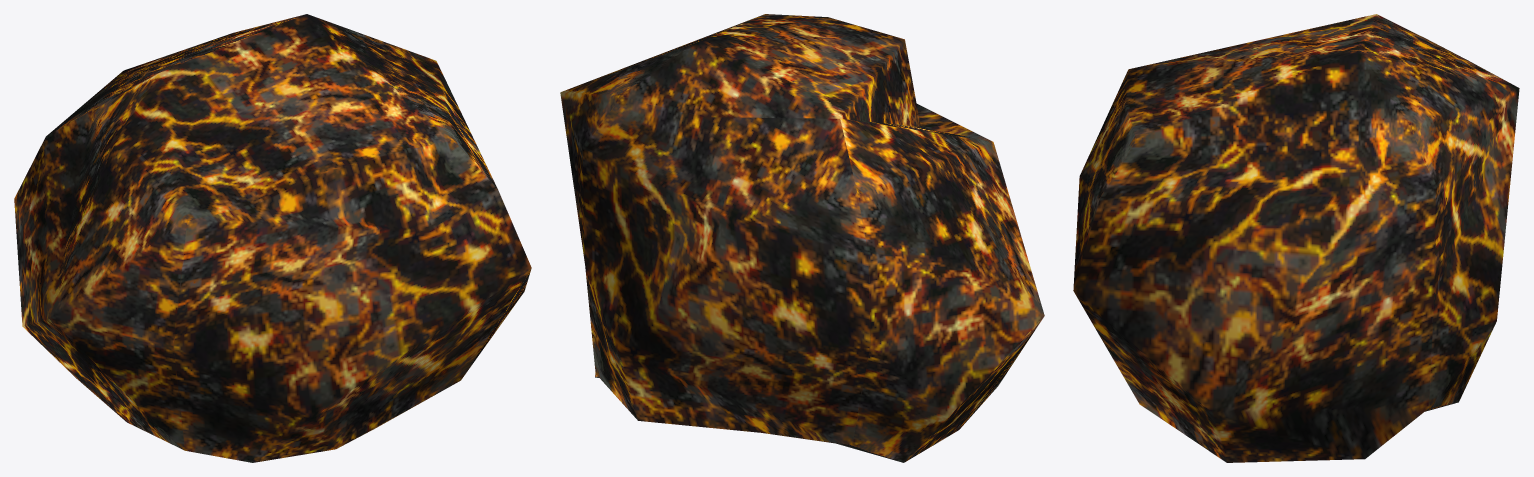
The model's file is asteroid_moltenrock_medium_s01_l3.fbx.
The picture shows the model from 3 angles, left to right: view 1: azimuth 30°, elevation 25°; view 2: azimuth 150°, elevation 25°; view 3: azimuth 270°, elevation 25°; orthographic projection. The views are drawn at different scales.
Parts seen in each view (by area): view 1: mesh_node; view 2: mesh_node; view 3: mesh_node.
Boxes of the visible parts, x1,y1,x2,y2 form: mesh_node: (14, 14, 531, 462); mesh_node: (560, 14, 1044, 462); mesh_node: (1073, 14, 1519, 462).
Bounding box in the file's own units: 106 × 87.51 × 87.83.
